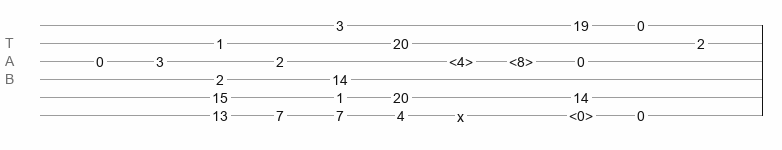0: (96, 54, 104, 64), (577, 54, 585, 64), (637, 18, 645, 28), (637, 108, 645, 118)
1: (216, 36, 224, 46), (336, 90, 344, 100)
13: (212, 108, 228, 118)
14: (332, 72, 348, 82), (573, 90, 589, 100)
15: (212, 90, 228, 100)
19: (573, 18, 589, 28)
2: (216, 72, 224, 82), (276, 54, 284, 64), (697, 36, 705, 46)
20: (393, 90, 409, 100), (393, 36, 409, 46)
3: (156, 54, 164, 64), (336, 18, 344, 28)
4: (397, 108, 405, 118)
7: (276, 108, 284, 118), (336, 108, 344, 118)
harmonic: (449, 54, 473, 64), (509, 54, 533, 64), (569, 108, 593, 118)
x: (457, 109, 464, 117)
